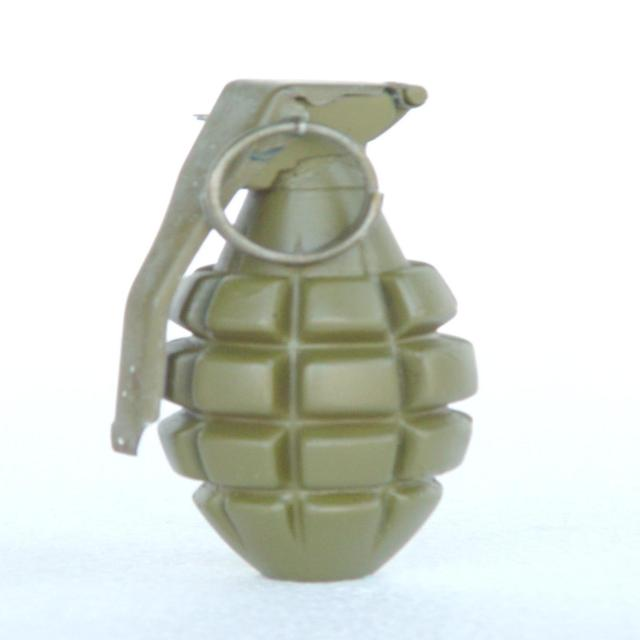grenade: (111, 79, 482, 585)
